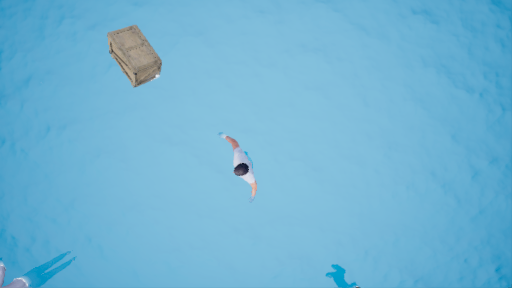person: (222, 130, 267, 202)
